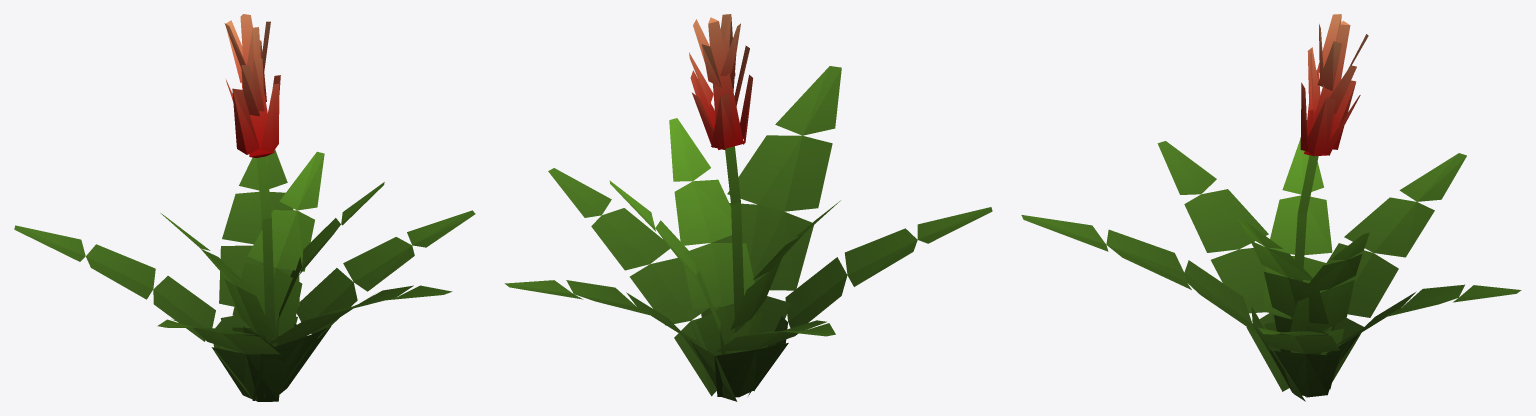
Rendered from VEG0310002.fbx.
3 views of the same model, side by side, from view 1: azimuth 30°, elevation 25°; view 2: azimuth 150°, elevation 25°; view 3: azimuth 270°, elevation 25° (orthographic). The views are drawn at different scales.
Visible parts, largest first — view 1: smVEG0310002; view 2: smVEG0310002; view 3: smVEG0310002.
Boxes of the visible parts, bbox=[...] form: smVEG0310002: bbox=[14, 14, 475, 401]; smVEG0310002: bbox=[504, 14, 992, 401]; smVEG0310002: bbox=[1021, 14, 1521, 401].
Size of the model in its own units: 98.38 by 93.7 by 115.
Materials: 1 (1 with a texture image).
